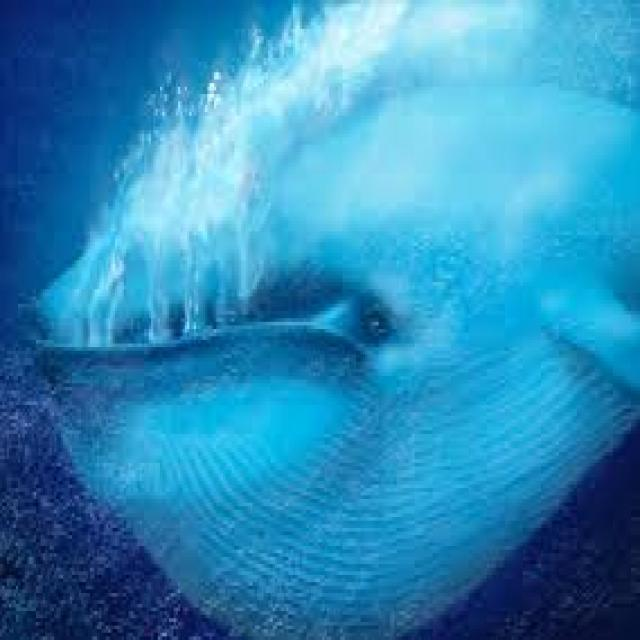blue_whale: (56, 94, 640, 629)
